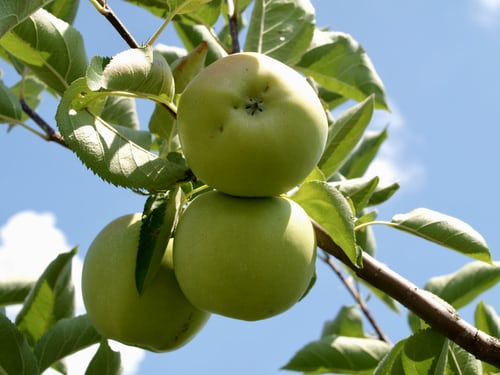apple: (174, 50, 329, 196), (170, 187, 320, 322), (80, 210, 215, 356)
